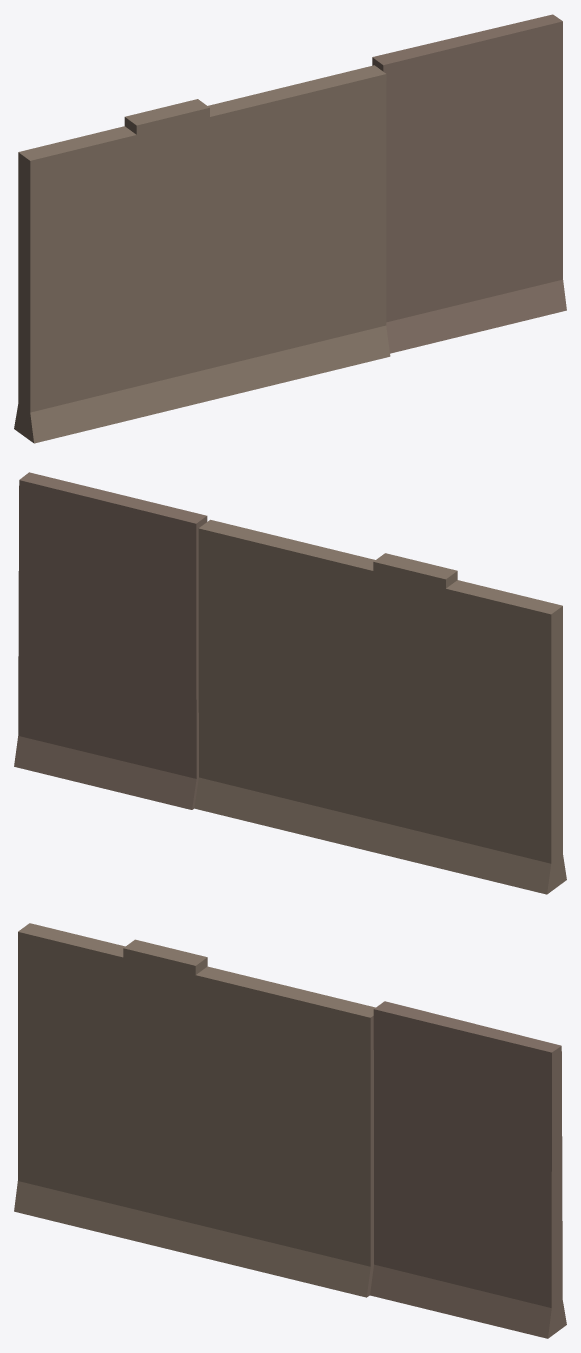
The model's file is wall3.fbx.
3 renders of one model, top to bottom at view 1: azimuth 30°, elevation 25°; view 2: azimuth 150°, elevation 25°; view 3: azimuth 330°, elevation 25°, orthographic.
Parts seen in each view (by area): view 1: wall3; view 2: wall3; view 3: wall3.
Part boxes in pixels (left/top/right/bottom): wall3: left=14, top=14, right=566, bottom=443; wall3: left=14, top=472, right=566, bottom=894; wall3: left=14, top=923, right=566, bottom=1338.
Bounding box in the file's own units: 600 × 309 × 43.58.
